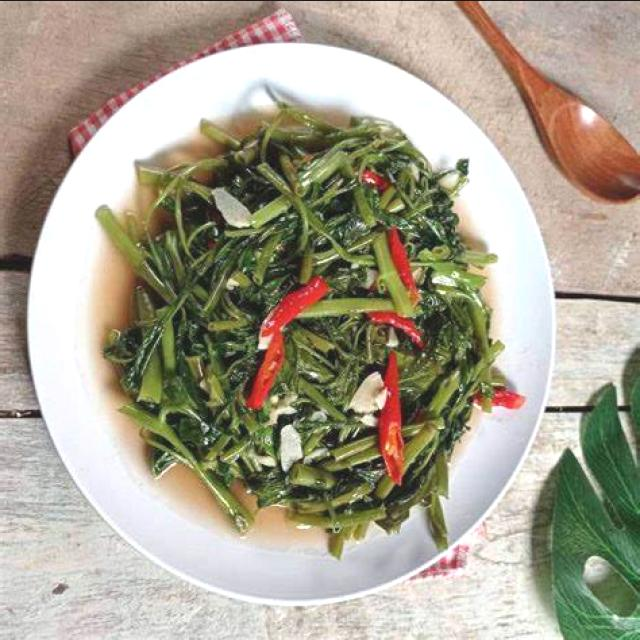tumis kangkung: (95, 89, 523, 555)
